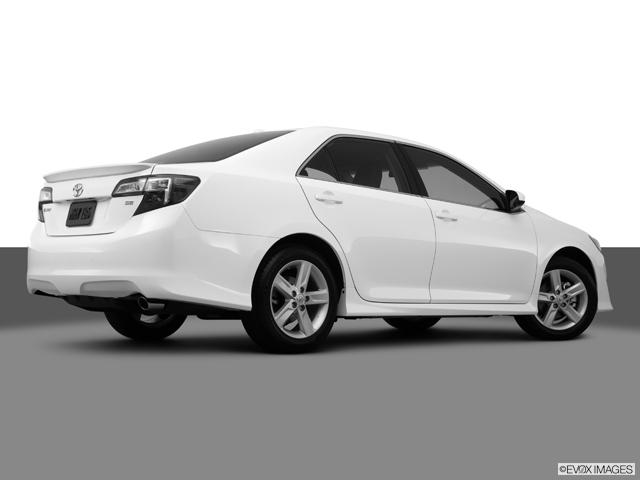car: (26, 127, 617, 356)
